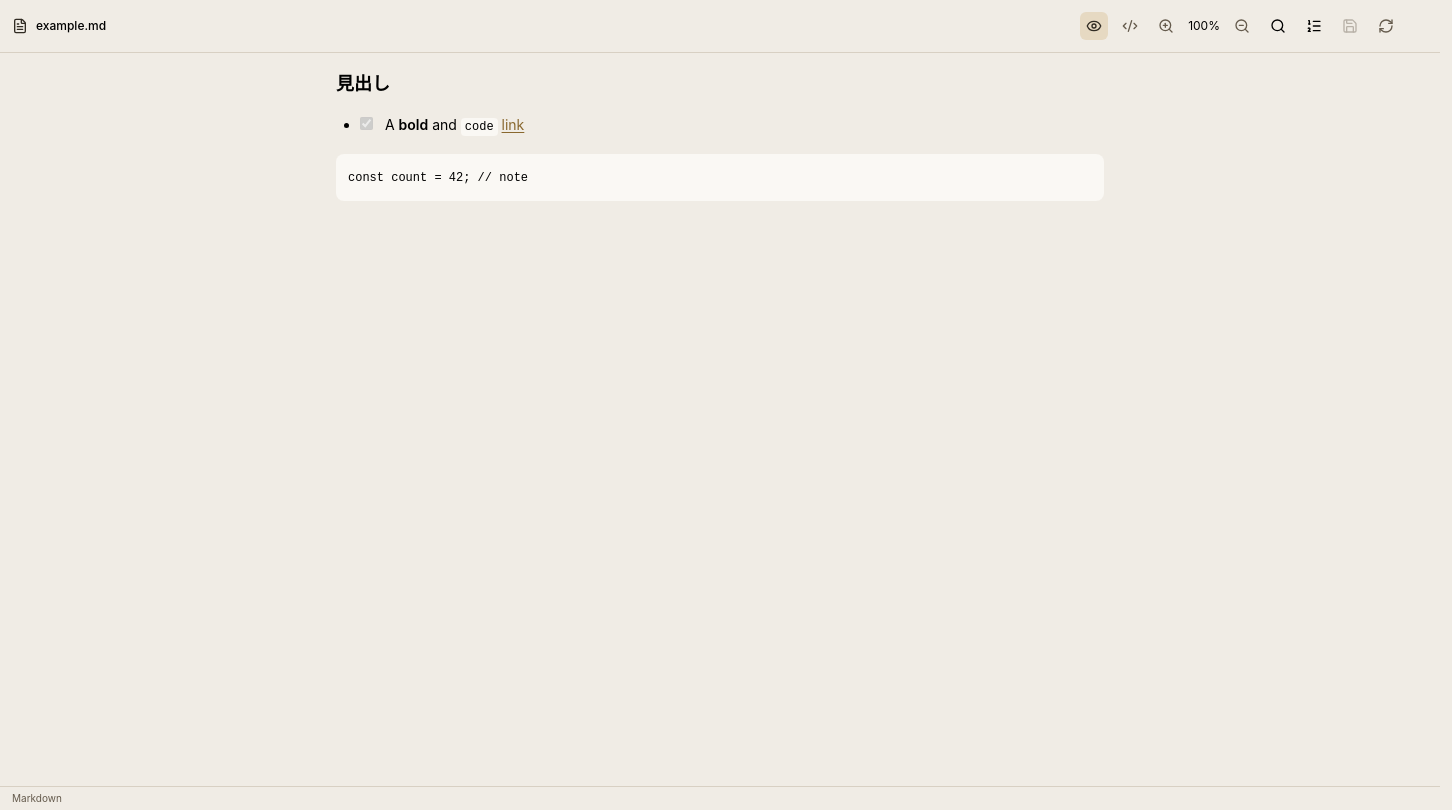
Markdown source editing › preserves raw source while coloring Markdown and fenced code and numbering empty lines
Expected: the heading "見出し" is shown, x1=336 y1=73 x2=390 y2=94
Click the button named "Edit" at x=1130, y=26, box x1=1116 y1=12 x2=1144 y2=40
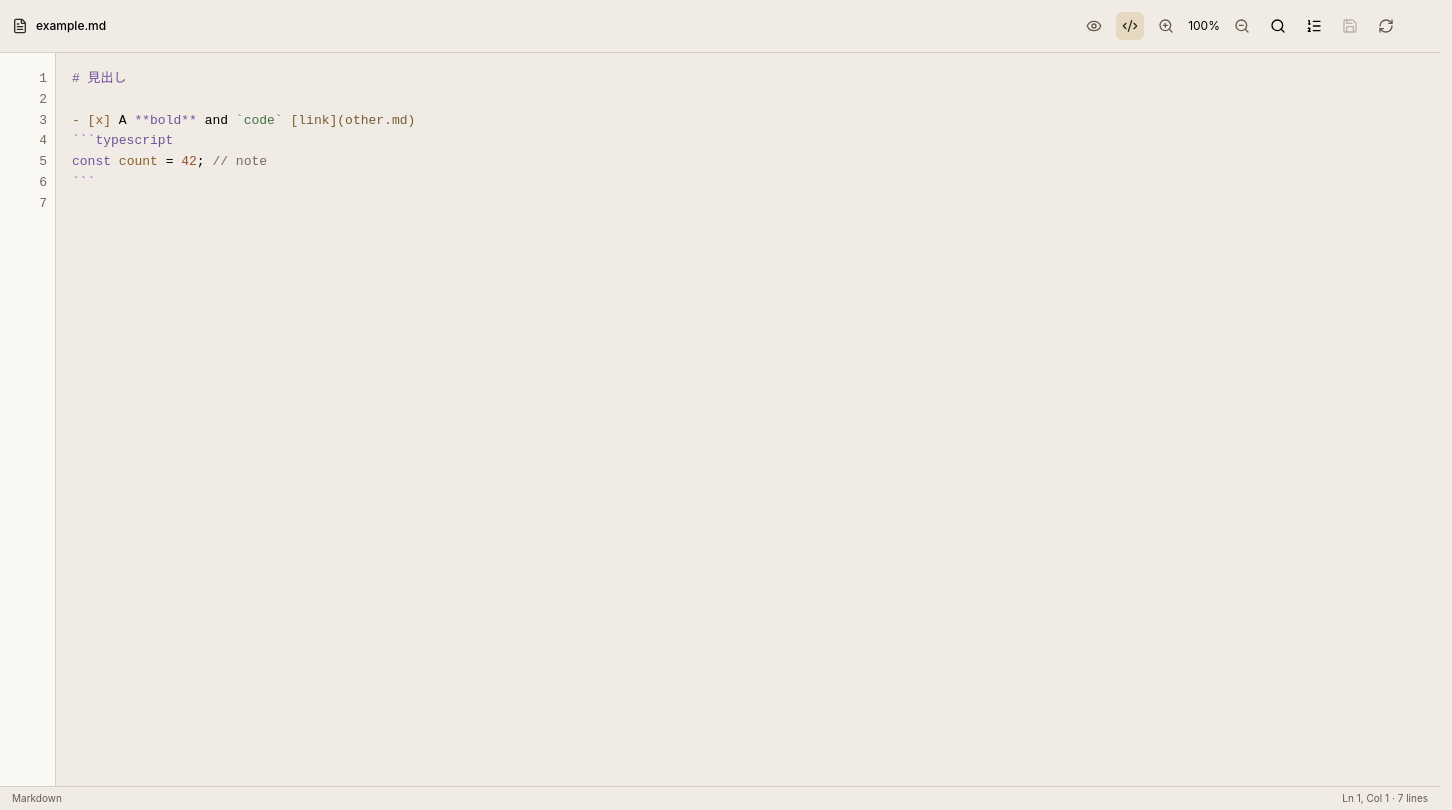
Expected: the text "`code`" is shown, x1=236 y1=113 x2=283 y2=128
Expected: the text "[link](other.md)" is shown, x1=290 y1=113 x2=415 y2=128
Expected: the text "7" is shown, x1=39 y1=194 x2=47 y2=215
